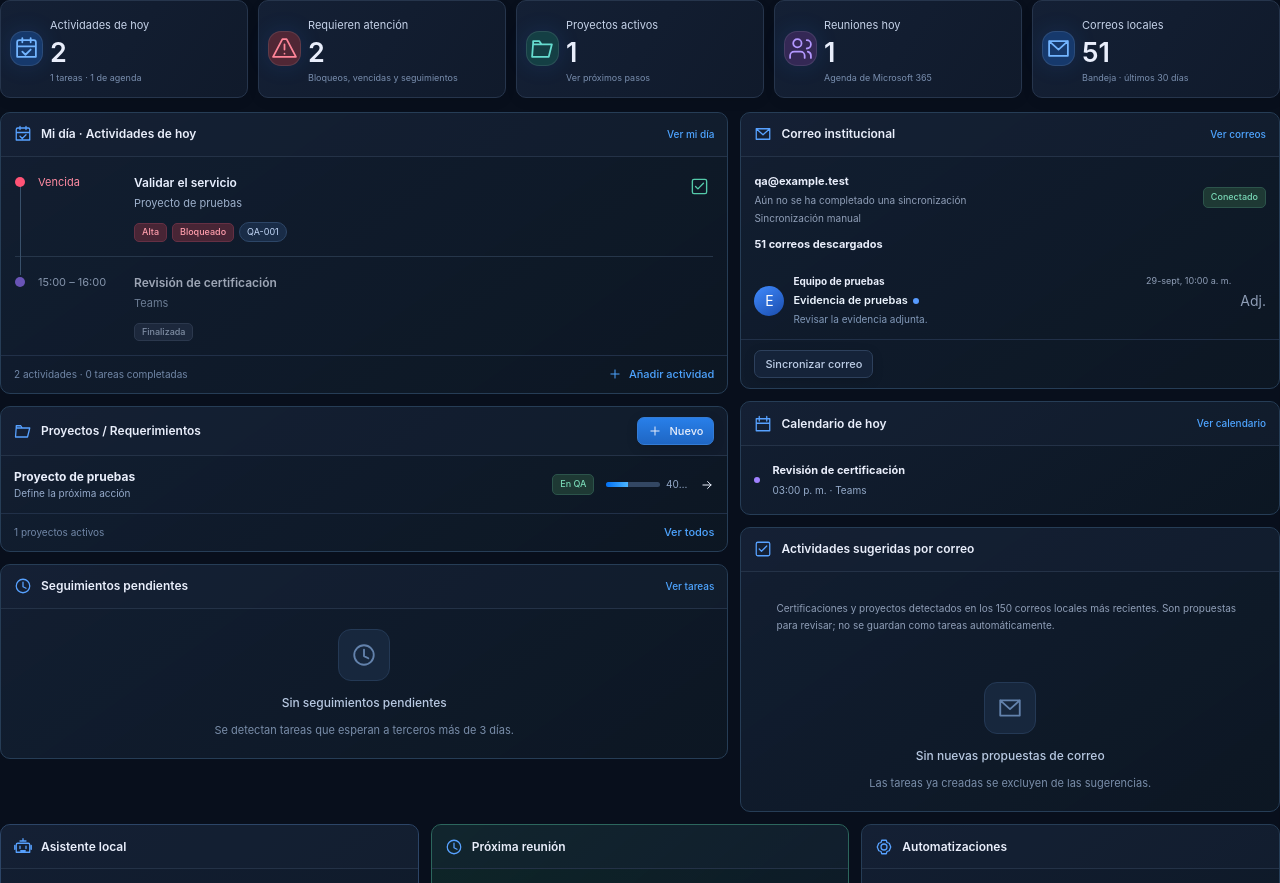
la tarjeta de atención reúne tareas sin duplicarlas y proyectos sin próxima acción
Click the button "Requieren atención 2 Bloqueos, vencidas y seguimientos".
click(382, 49)  # box left=258, top=0, right=506, bottom=98
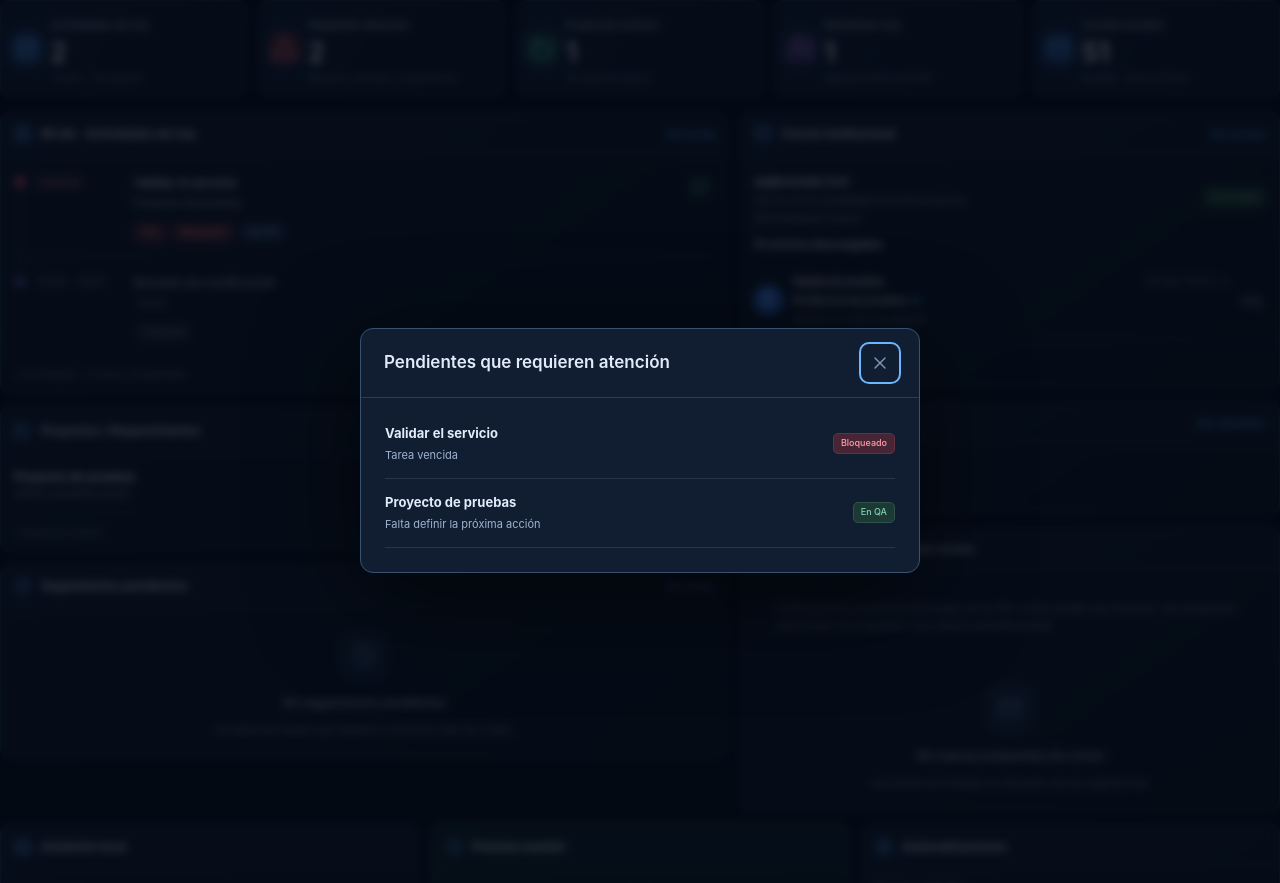
Now the number of buttons "Validar el servicio Tarea vencida Bloqueado" is 1
Now the text "Falta definir la próxima acción" is shown, box left=385, top=516, right=540, bottom=532
Click the button "Validar el servicio Tarea vencida Bloqueado".
click(441, 432)  # box left=385, top=410, right=895, bottom=478
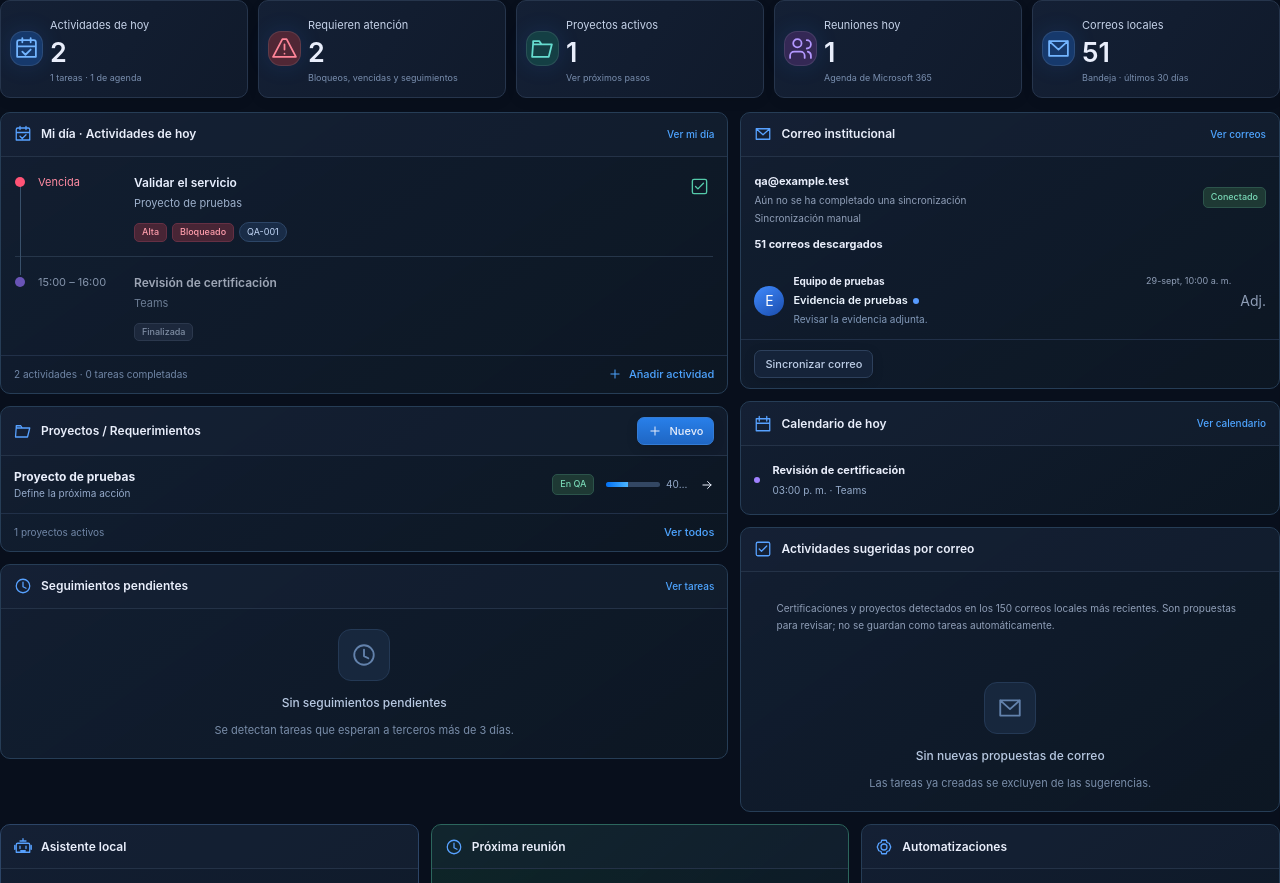
Now the dialog is gone
